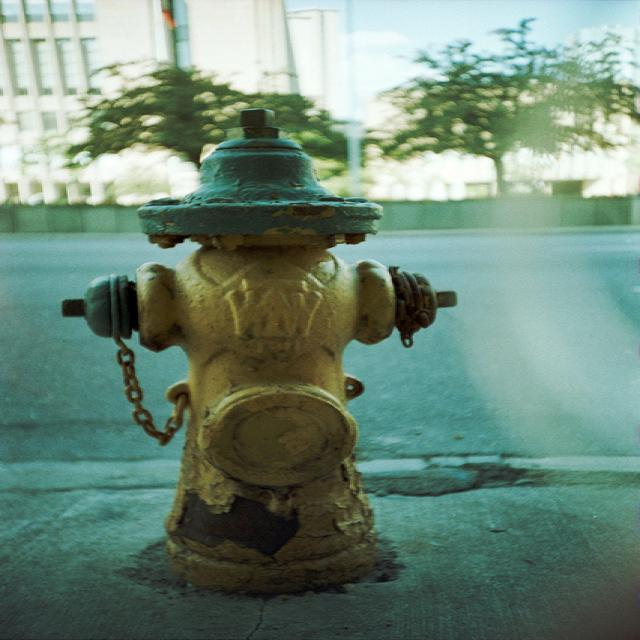fire_hydrant: (45, 104, 464, 594)
